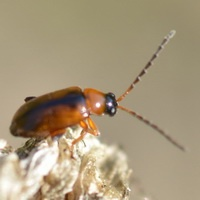insect: (10, 30, 184, 158)
